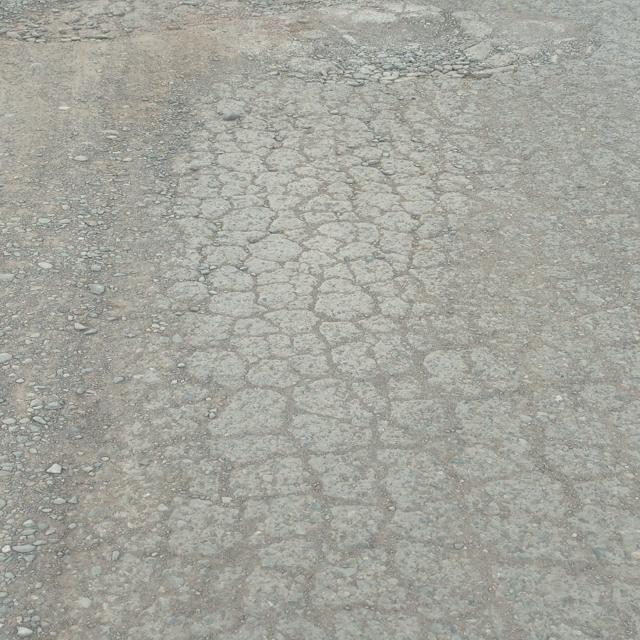Retak Buaya: (133, 57, 498, 564)
